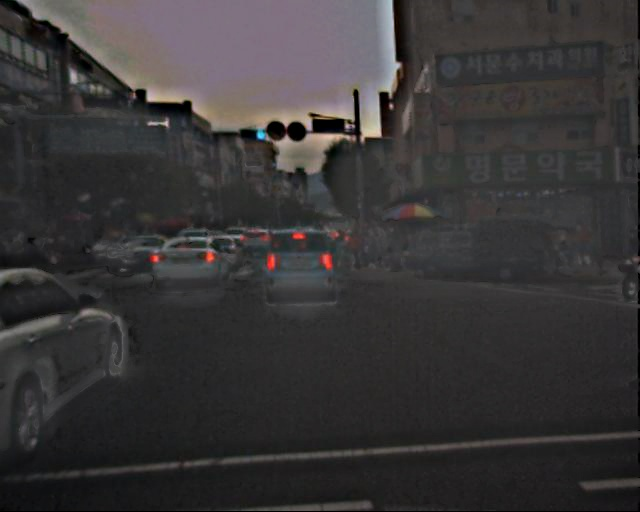person: (346, 224, 407, 271), (569, 223, 591, 276)
